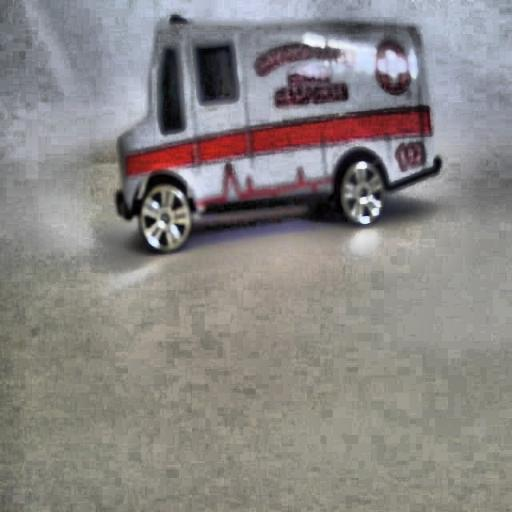ambulance: (114, 14, 441, 253)
